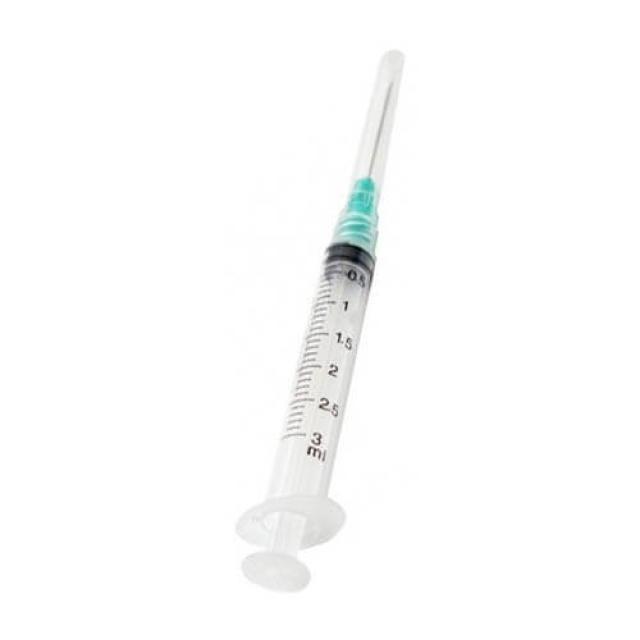syringe: (234, 46, 406, 593)
